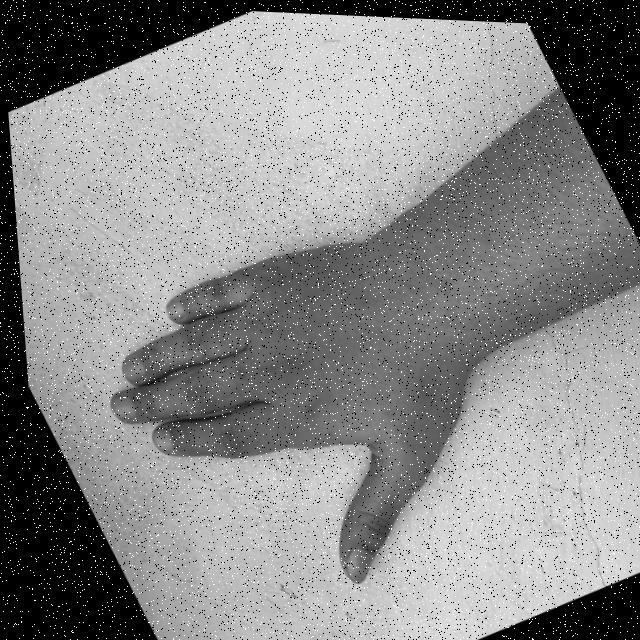hand: (55, 191, 534, 640)
